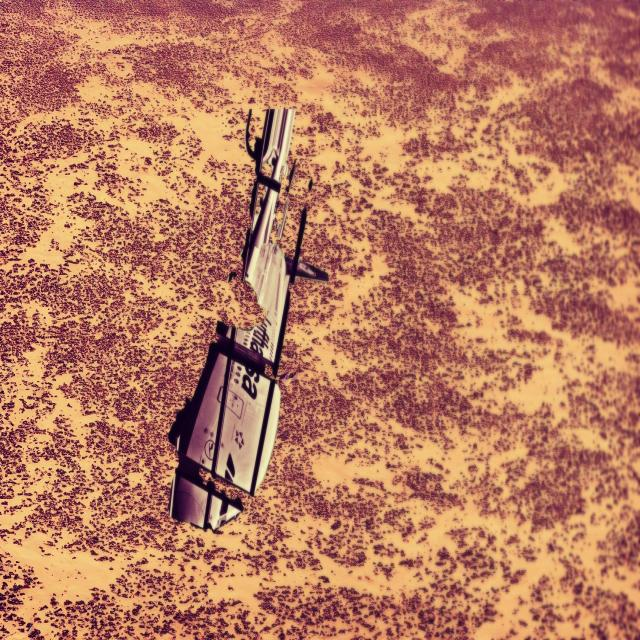airplane: (167, 105, 329, 532)
